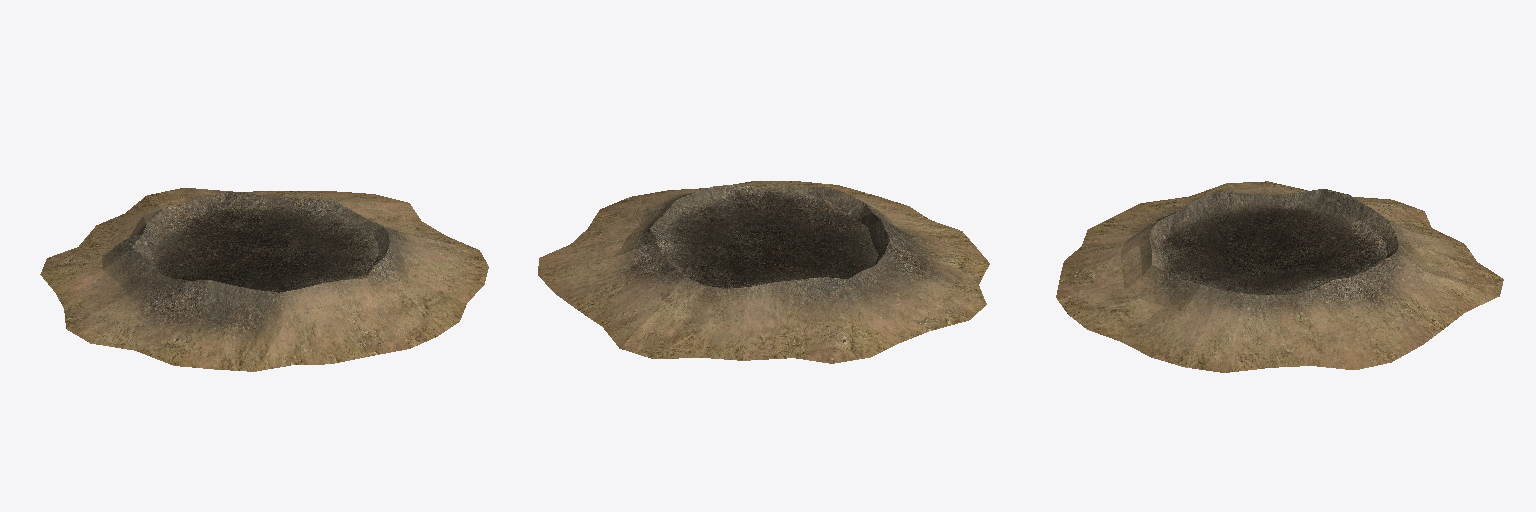
3 renders of one model, left to right at view 1: azimuth 30°, elevation 25°; view 2: azimuth 150°, elevation 25°; view 3: azimuth 270°, elevation 25°, orthographic.
Visible parts, largest first — view 1: Cylinder001; view 2: Cylinder001; view 3: Cylinder001.
Part boxes in pixels (left/top/right/bottom): Cylinder001: left=40, top=188, right=488, bottom=371; Cylinder001: left=538, top=181, right=989, bottom=363; Cylinder001: left=1056, top=181, right=1503, bottom=372.
Bounding box in the file's own units: 6.21 × 0.6652 × 6.15.
1 materials, 1 textured.